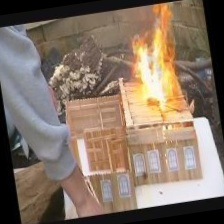fire: (123, 2, 190, 110)
